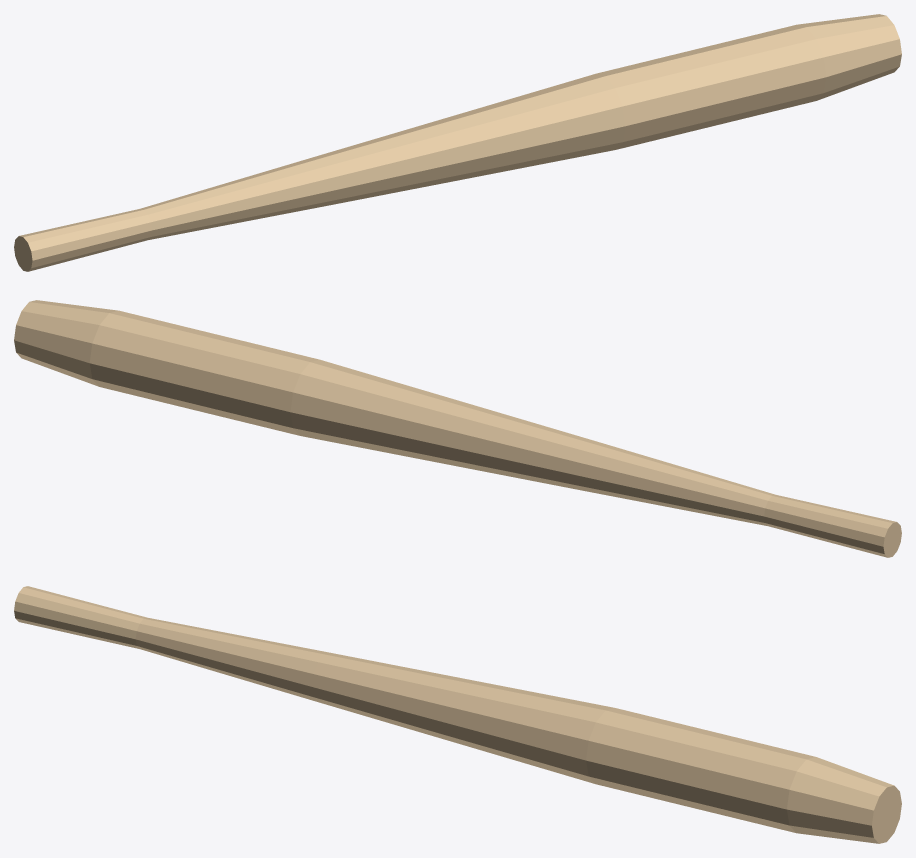
Rendered from bat.glb.
3 renders of one model, top to bottom at view 1: azimuth 30°, elevation 25°; view 2: azimuth 150°, elevation 25°; view 3: azimuth 330°, elevation 25°, orthographic.
Visible parts, largest first — view 1: bat; view 2: bat; view 3: bat.
Part boxes in pixels (bbox=[...]): bat: bbox=[14, 14, 901, 271]; bat: bbox=[14, 300, 901, 557]; bat: bbox=[14, 586, 901, 843].
Bounding box in the file's own units: 0.86 × 0.068 × 0.068.
